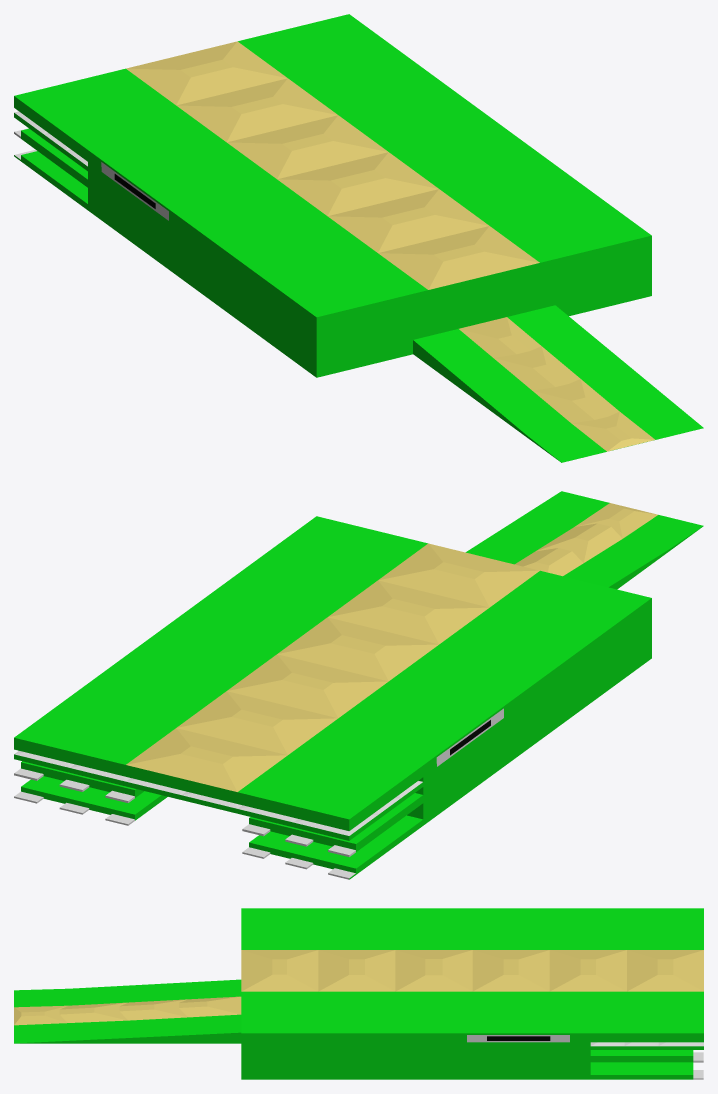
The model's file is Daino.fbx.
The picture shows the model from 3 angles, top to bottom: view 1: azimuth 30°, elevation 25°; view 2: azimuth 150°, elevation 25°; view 3: azimuth 270°, elevation 25°; orthographic projection. The views are drawn at different scales.
Parts seen in each view (by area): view 1: Daino; view 2: Daino; view 3: Daino.
Part boxes in pixels (x1,y1,x2,y2): Daino: [14, 14, 703, 462]; Daino: [14, 491, 703, 879]; Daino: [14, 908, 703, 1079].
Size of the model in its own units: 57.62 by 10.73 by 134.
